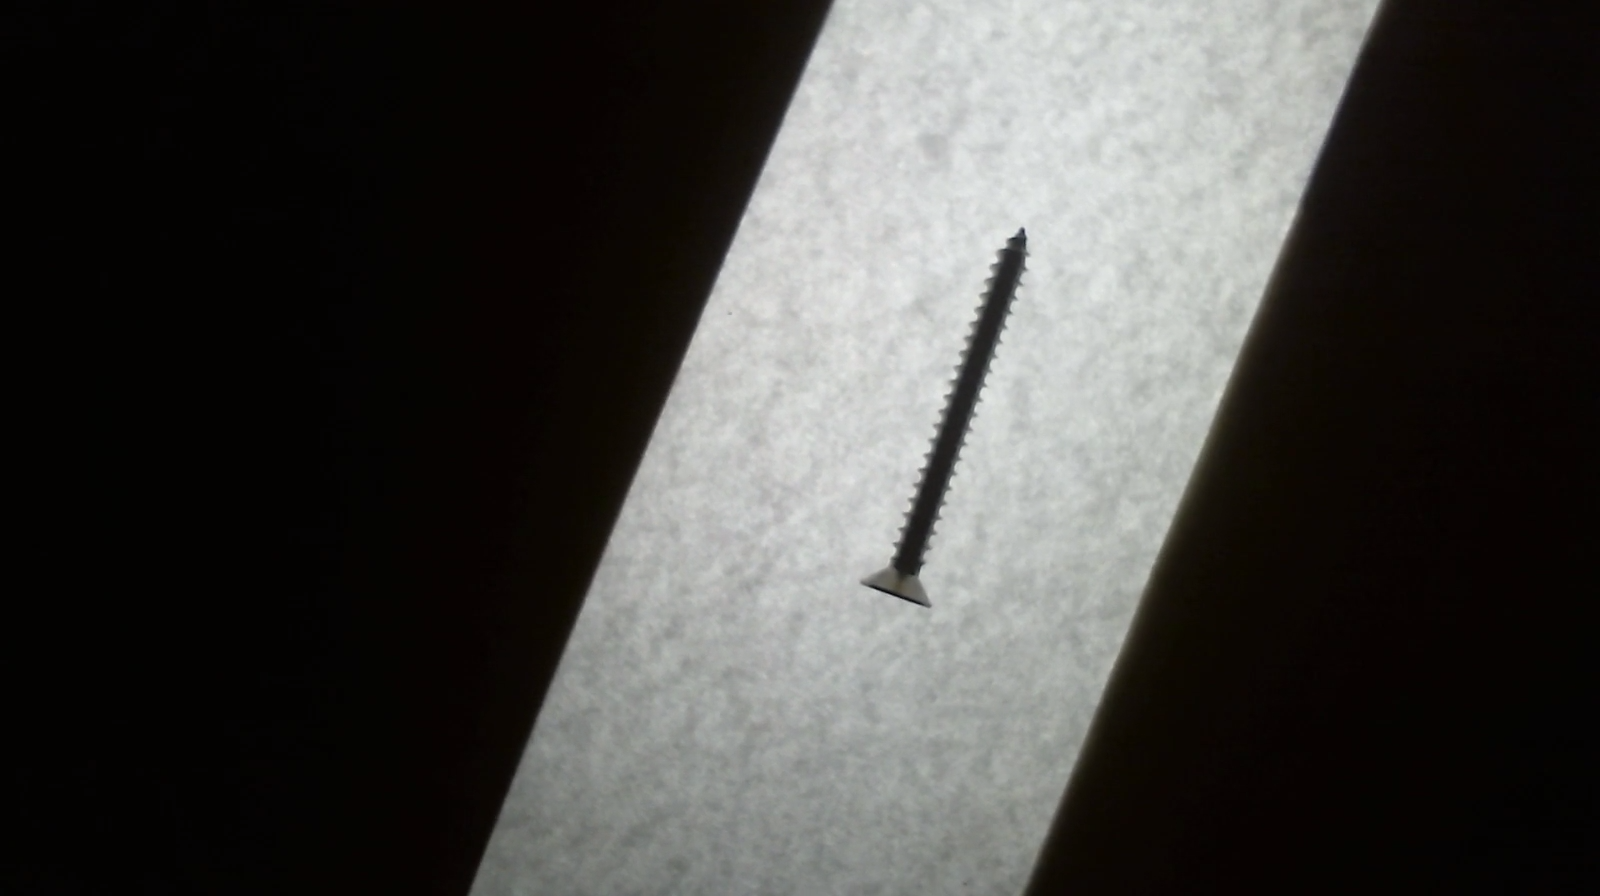S002: (826, 214, 1065, 631)
